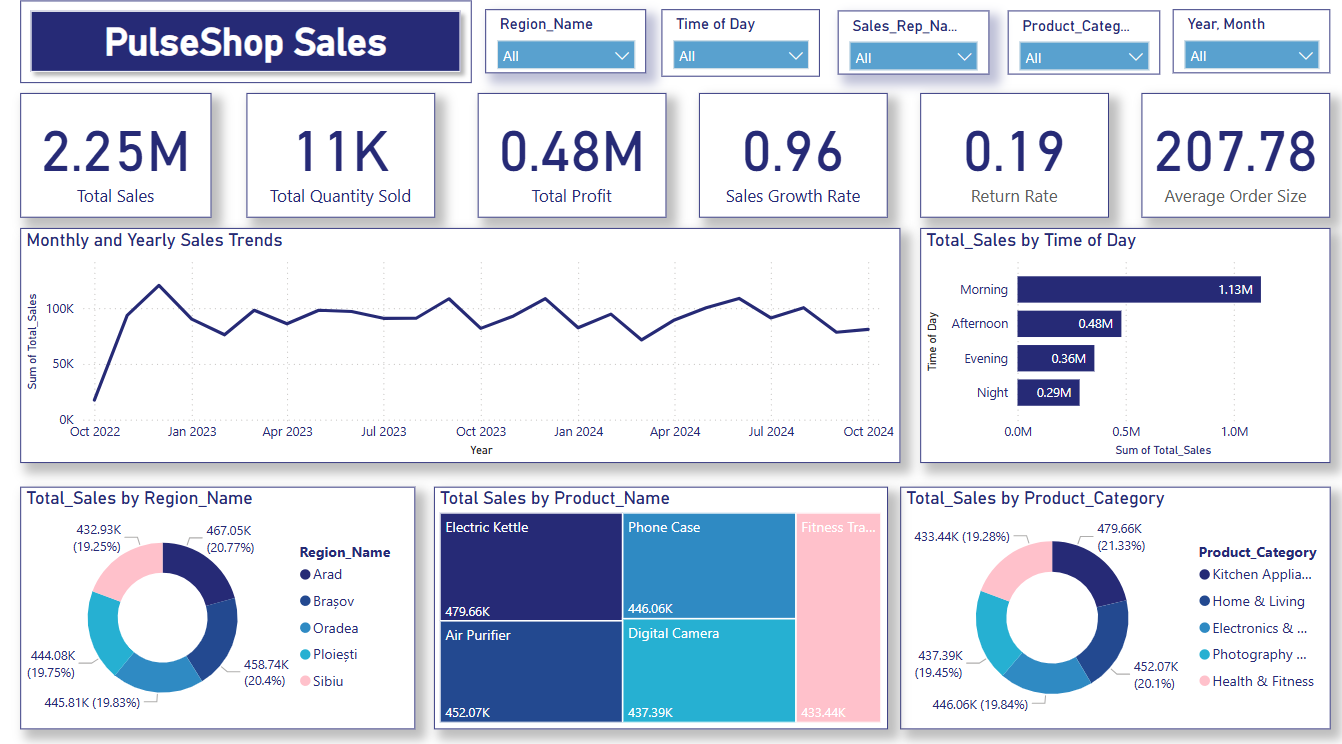

The page's visual inventory and layout, read from the dashboard file:
{"tool":"powerbi","page":{"name":"Overview","canvas":[1280,720],"ordinal":0},"visuals":[{"type":"slicer","fields":{"Values":["Regions.Region_Name"]},"box":[461.9,15.4,153.2,60.6],"z":0},{"type":"slicer","fields":{"Values":["Products.Product_Category"]},"box":[958.2,16.6,144.9,60.6],"z":1000},{"type":"slicer","fields":{"Values":["Sales_Reps.Sales_Rep_Name"]},"box":[796.7,16.6,143.7,60.6],"z":2000},{"type":"slicer","fields":{"Values":["Orders.Time of Day"]},"box":[629.3,15.4,150.8,64.1],"z":3000},{"type":"slicer","fields":{"Values":["Date_Table.Year","Date_Table.Month"]},"box":[1114.9,15.4,149.6,60.6],"z":4000},{"type":"donutChart","title":"Total_Sales by Region_Name","fields":{"Y":["Orders.Total_Sales"],"Category":["Regions.Region_Name"]},"box":[20.2,469,375.2,230.3],"z":5000},{"type":"card","fields":{"Values":["Measures_Table.Total Sales"]},"box":[20.2,95,181.7,118.7],"z":6000},{"type":"card","fields":{"Values":["Measures_Table.Return Rate"]},"box":[875.1,95,179.3,118.7],"z":7000},{"type":"card","fields":{"Values":["Measures_Table.Average Order Size"]},"box":[1085.2,95,179.3,118.7],"z":8000},{"type":"card","title":"Sales Growth Rate","fields":{"Values":["Measures_Table.YoY-Sales-Growth-Rate"]},"box":[664.9,95,179.3,118.7],"z":9000},{"type":"card","fields":{"Values":["Measures_Table.Total Profit"]},"box":[454.8,95,179.3,118.7],"z":10000},{"type":"card","fields":{"Values":["Measures_Table.Total Quantity Sold"]},"box":[235.1,95,179.3,118.7],"z":11000},{"type":"donutChart","title":" Total_Sales by Product_Category","fields":{"Y":["Orders.Total_Sales"],"Category":["Products.Product_Category"]},"box":[856.1,469,408.4,230.3],"z":13000},{"type":"stackedAreaChart","title":"Monthly and Yearly Sales Trends","fields":{"Category":["Date_Table.Date.Variation.Date Hierarchy.Year","Date_Table.Date.Variation.Date Hierarchy.Month"],"Y":["Orders.Total_Sales"]},"box":[20.2,223.2,835.9,223.2],"z":14000},{"type":"treemap","fields":{"Group":["Products.Product_Name"],"Values":["Measures_Table.Total Sales"]},"box":[413.2,469,431,230.3],"z":15000},{"type":"clusteredBarChart","title":"Total_Sales by Time of Day","fields":{"Y":["Orders.Total_Sales"],"Category":["Orders.Time of Day"]},"box":[875.1,223.2,389.5,223.2],"z":16000},{"type":"shape","box":[20.2,7.1,428.6,78.4],"z":16001}]}

Visuals, with their boxes in screenshot pixels (x1, y1, x2, y2), scaled from the page's 1280x720 canvas onto the 1342x744 screenshot:
slicer - Regions.Region_Name: region(484, 16, 645, 79)
slicer - Products.Product_Category: region(1005, 17, 1157, 80)
slicer - Sales_Reps.Sales_Rep_Name: region(835, 17, 986, 80)
slicer - Orders.Time of Day: region(660, 16, 818, 82)
slicer - Date_Table.Year x Date_Table.Month: region(1169, 16, 1326, 79)
"Total_Sales by Region_Name" donutChart: region(21, 485, 415, 723)
card - Measures_Table.Total Sales: region(21, 98, 212, 221)
card - Measures_Table.Return Rate: region(917, 98, 1105, 221)
card - Measures_Table.Average Order Size: region(1138, 98, 1326, 221)
"Sales Growth Rate" card: region(697, 98, 885, 221)
card - Measures_Table.Total Profit: region(477, 98, 665, 221)
card - Measures_Table.Total Quantity Sold: region(246, 98, 434, 221)
" Total_Sales by Product_Category" donutChart: region(898, 485, 1326, 723)
"Monthly and Yearly Sales Trends" stackedAreaChart: region(21, 231, 898, 461)
treemap - Products.Product_Name x Measures_Table.Total Sales: region(433, 485, 885, 723)
"Total_Sales by Time of Day" clusteredBarChart: region(917, 231, 1326, 461)
shape: region(21, 7, 471, 88)
